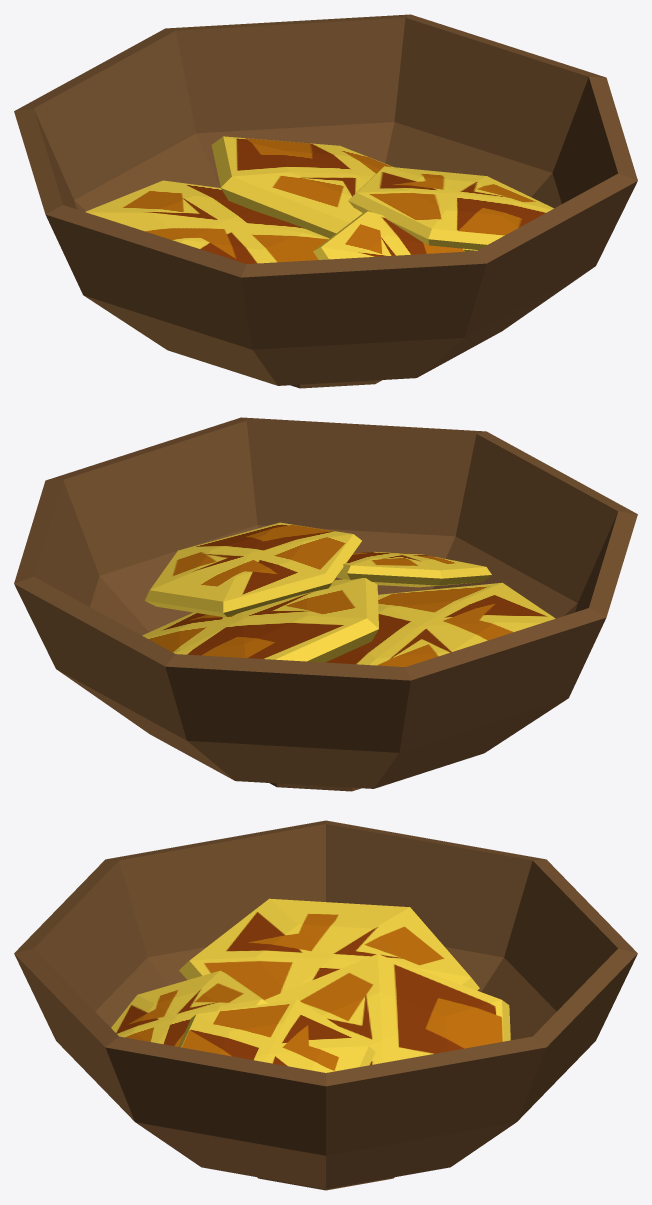
Rendered from KaoJii.glb.
3 renders of one model, top to bottom at view 1: azimuth 30°, elevation 25°; view 2: azimuth 150°, elevation 25°; view 3: azimuth 270°, elevation 25°, orthographic. The views are drawn at different scales.
Parts seen in each view (by area): view 1: Circle, Sphere.002; view 2: Circle, Sphere.002; view 3: Circle, Sphere.002.
Part boxes in pixels (x1,y1,x2,y2): Circle: [14, 14, 637, 388]; Sphere.002: [85, 136, 553, 263]; Circle: [14, 417, 637, 791]; Sphere.002: [142, 522, 555, 666]; Circle: [14, 820, 637, 1190]; Sphere.002: [111, 898, 510, 1072].
Bounding box in the file's own units: 2.46 × 0.868 × 2.44.
2 materials, 1 textured.
